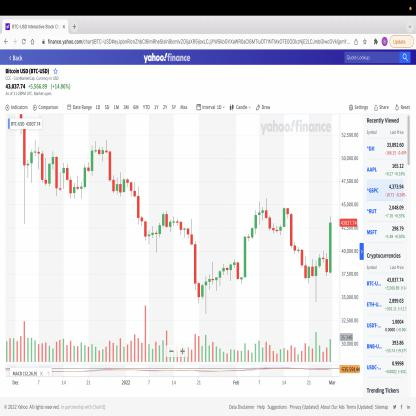Bearish: 3 Black Crows: (190, 216, 201, 305), (137, 184, 147, 242)
Bearish: Tweezer Top: (161, 209, 168, 231)
Bullish: Hammer: (236, 235, 247, 286)
Bullish: Inverted Hammer: (41, 149, 51, 189)
